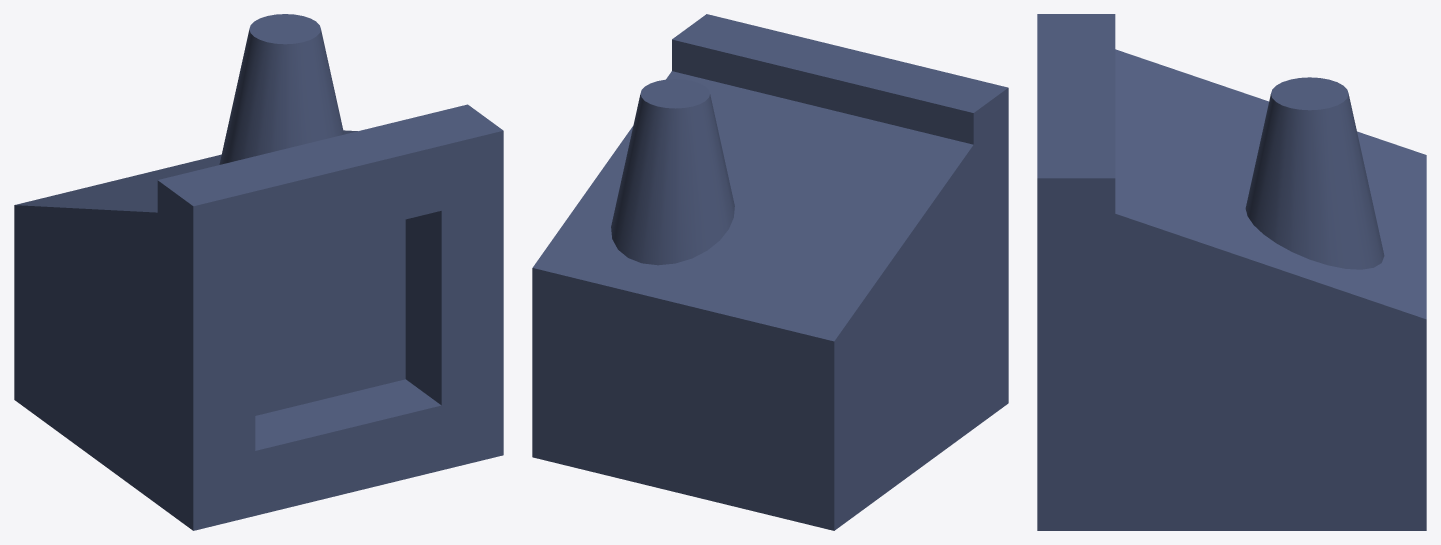
File: ResourceGatherer.fbx
3 renders of one model, left to right at view 1: azimuth 30°, elevation 25°; view 2: azimuth 150°, elevation 25°; view 3: azimuth 270°, elevation 25°, orthographic. The views are drawn at different scales.
Visible parts, largest first — view 1: mergedBlocks; view 2: mergedBlocks; view 3: mergedBlocks.
Boxes of the visible parts, x1,y1,x2,y2 form: mergedBlocks: [14, 14, 503, 530]; mergedBlocks: [532, 14, 1008, 530]; mergedBlocks: [1037, 14, 1426, 530].
Bounding box in the file's own units: 0.1 × 0.11 × 0.1.
1 material, 1 textured.
